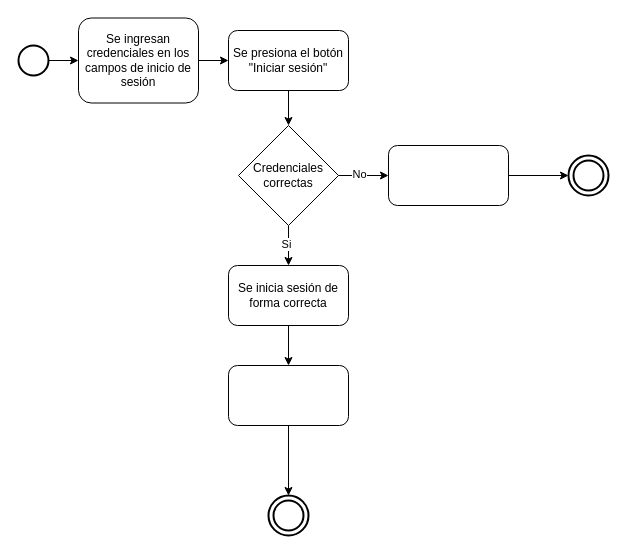
The diagram is 626 pixels wide and 553 high, and some of its shapes have lost their labels. The centre of each missing label's shape, as x and y in pixels:
Se envía mensaje "Credenciales incorrectas": [448,175]
Se ingresa al sistema: [288,395]
